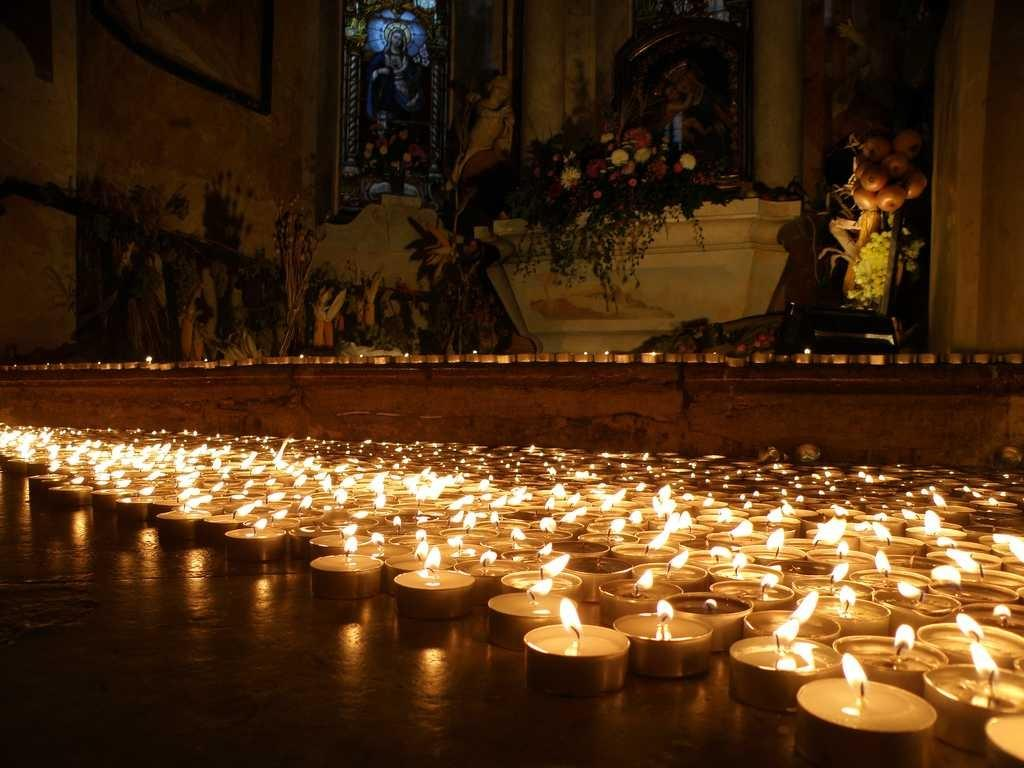fire: (756, 508, 1004, 706), (402, 478, 686, 602), (52, 436, 302, 508)
